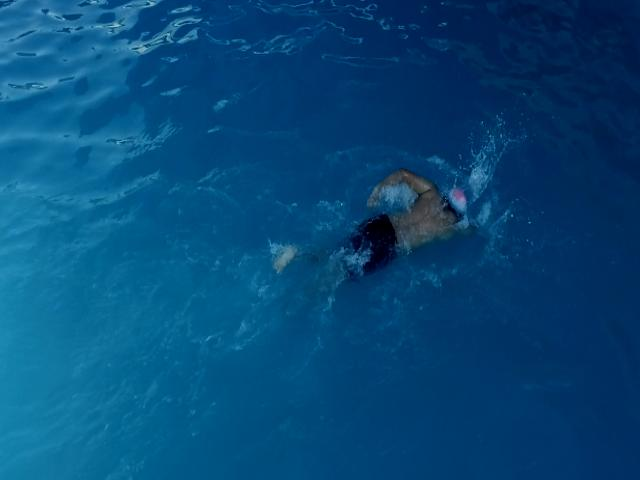swimming: (268, 166, 486, 284)
